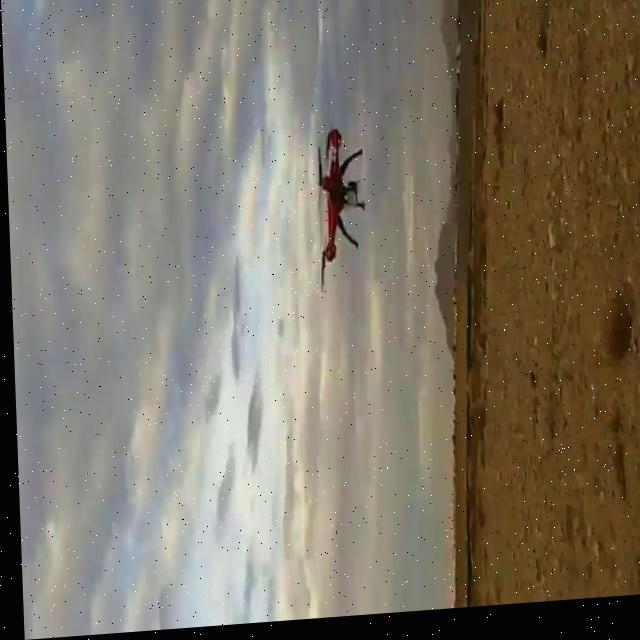drone: (301, 124, 371, 310)
